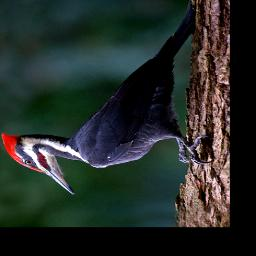Woodpecker: (1, 0, 215, 195)
